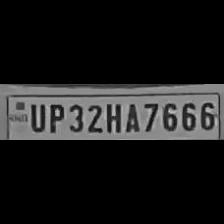2: (85, 100, 103, 134)
3: (65, 101, 83, 133)
6: (158, 100, 178, 132), (198, 100, 216, 132), (180, 98, 196, 132)
7: (138, 100, 158, 132)
A: (122, 100, 140, 134)
H: (104, 100, 122, 134)
P: (46, 100, 64, 134)
U: (27, 101, 45, 133)
